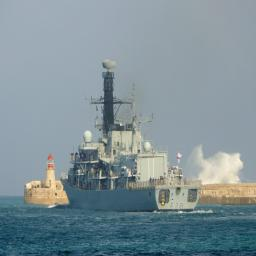Fragata: (59, 55, 203, 216)
